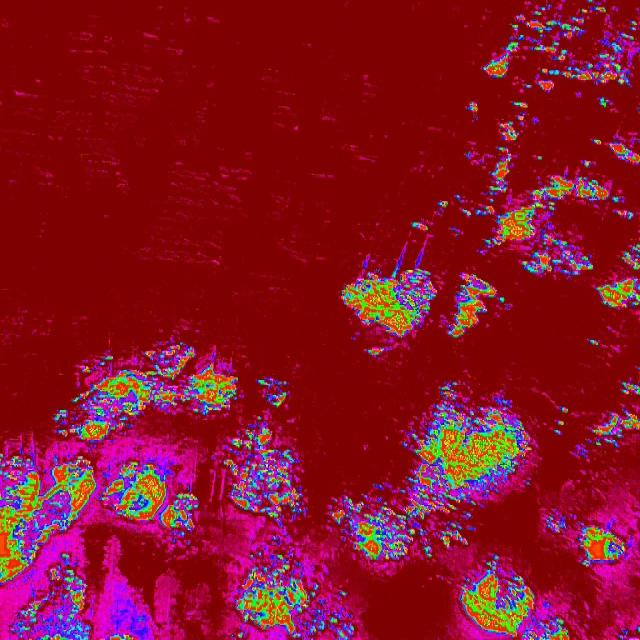fire: (55, 336, 239, 446), (0, 449, 99, 640), (400, 378, 530, 490), (476, 173, 610, 262), (510, 0, 640, 89), (329, 488, 477, 561), (235, 561, 358, 640), (99, 457, 204, 549), (337, 264, 438, 357), (458, 555, 568, 640), (222, 416, 306, 526), (446, 272, 507, 344), (577, 518, 628, 568), (101, 591, 152, 640), (588, 406, 640, 448), (596, 276, 640, 312), (494, 99, 530, 140), (254, 372, 290, 408), (592, 138, 640, 164), (522, 262, 592, 278), (482, 48, 510, 77), (544, 508, 568, 537), (552, 403, 571, 438), (492, 143, 513, 173), (611, 194, 634, 221), (618, 243, 640, 271), (617, 625, 640, 640), (622, 379, 640, 397), (411, 219, 430, 233), (596, 94, 610, 110), (270, 550, 291, 560), (466, 99, 479, 115), (459, 205, 472, 219), (436, 196, 449, 209), (448, 225, 461, 237), (250, 548, 264, 558), (454, 193, 465, 205), (462, 150, 473, 160), (589, 338, 600, 347), (581, 158, 590, 168), (533, 153, 543, 162), (230, 632, 236, 640)
